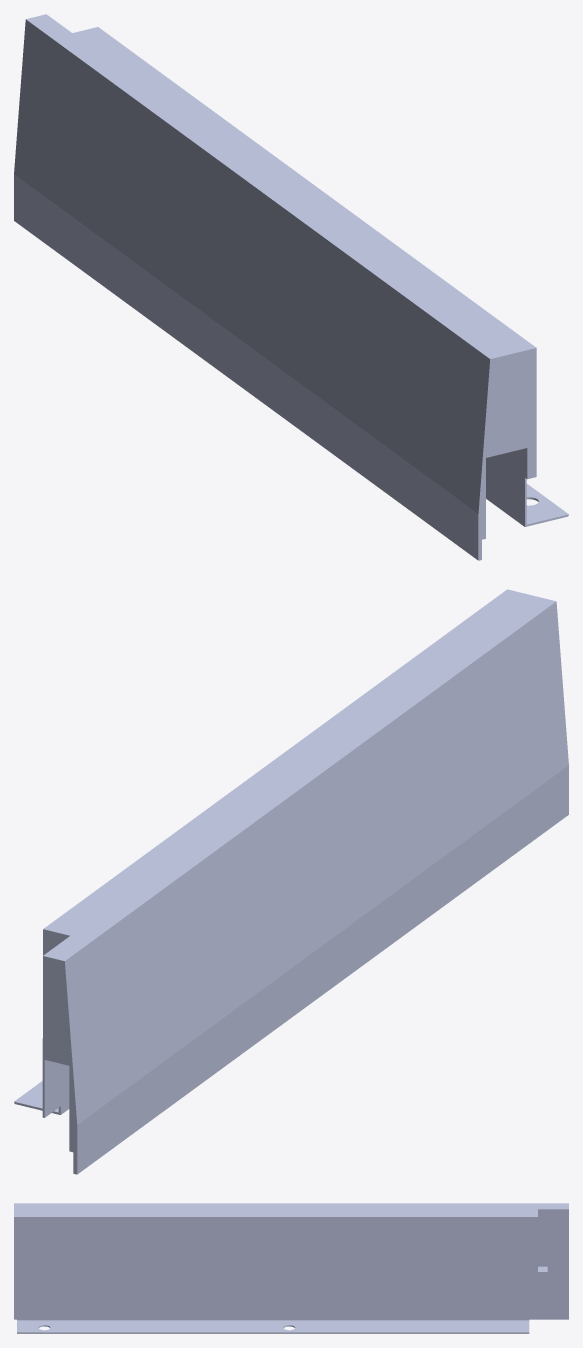
Rendered from mv-kava-N300-p.glb.
The picture shows the model from 3 angles, top to bottom: view 1: azimuth 30°, elevation 25°; view 2: azimuth 150°, elevation 25°; view 3: azimuth 270°, elevation 25°; orthographic projection. The views are drawn at different scales.
Parts seen in each view (by area): view 1: 45787623; view 2: 45787623; view 3: 45787623.
Boxes of the visible parts, box(x1,y1,x2,y2) form: 45787623: box(14, 14, 568, 560); 45787623: box(14, 589, 568, 1174); 45787623: box(14, 1203, 568, 1333).
Bounding box in the file's own units: 0.0335 × 0.0685 × 0.2902.
